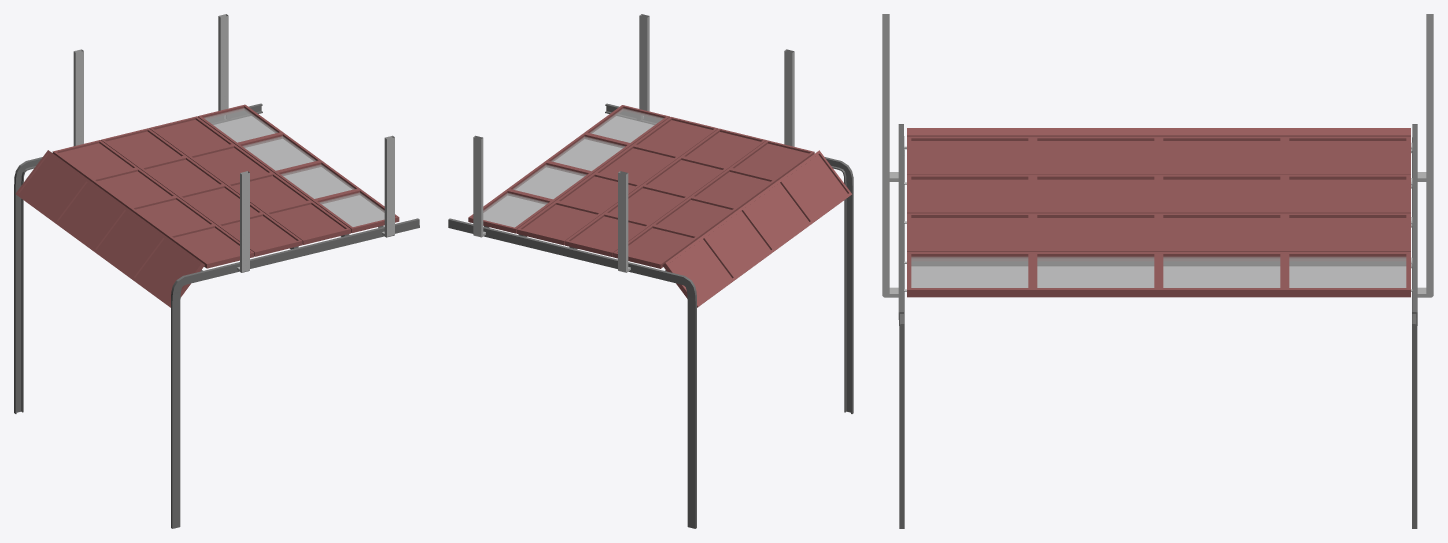
The model's file is GarageDoorOpen.fbx.
The picture shows the model from 3 angles, left to right: view 1: azimuth 30°, elevation 25°; view 2: azimuth 150°, elevation 25°; view 3: azimuth 270°, elevation 25°; orthographic projection. The views are drawn at different scales.
Parts seen in each view (by area): view 1: GarageRailing, Panel3, Panel2, TopPanel, Panel, Panel1; view 2: GarageRailing, Panel3, Panel2, TopPanel, Panel, Panel1; view 3: TopPanel, Panel, Panel1, Panel2, GarageRailing, Panel3.
Part boxes in pixels (<box>): GarageRailing: <box>14,14,419,528</box>; Panel3: <box>15,150,204,307</box>; Panel2: <box>52,140,254,268</box>; TopPanel: <box>197,104,399,232</box>; Panel: <box>149,116,350,244</box>; Panel1: <box>101,128,302,256</box>; GarageRailing: <box>448,14,853,528</box>; Panel3: <box>662,150,851,307</box>; Panel2: <box>613,140,814,268</box>; TopPanel: <box>468,105,669,233</box>; Panel: <box>516,117,718,245</box>; Panel1: <box>565,128,766,256</box>; TopPanel: <box>904,252,1412,297</box>; Panel: <box>904,213,1412,268</box>; Panel1: <box>904,174,1412,227</box>; Panel2: <box>904,136,1412,188</box>; GarageRailing: <box>882,14,1433,528</box>; Panel3: <box>904,128,1412,153</box>.
Size of the model in its own units: 366 by 482 by 430.
